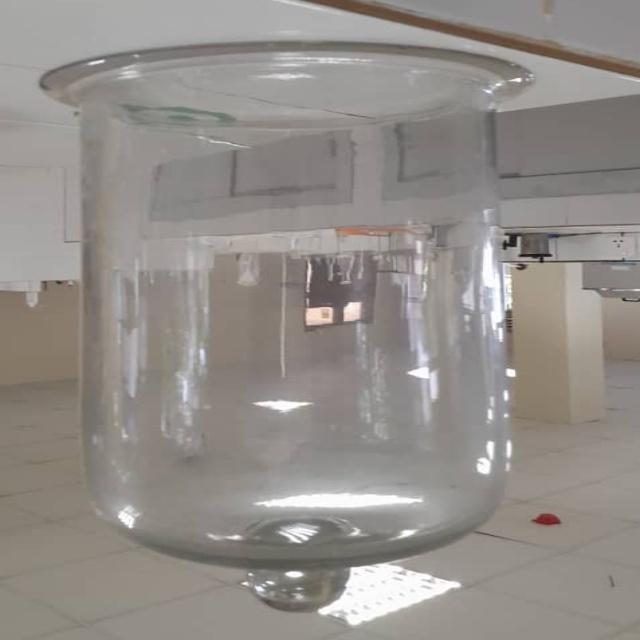Gas Bottle: (35, 40, 550, 608)
